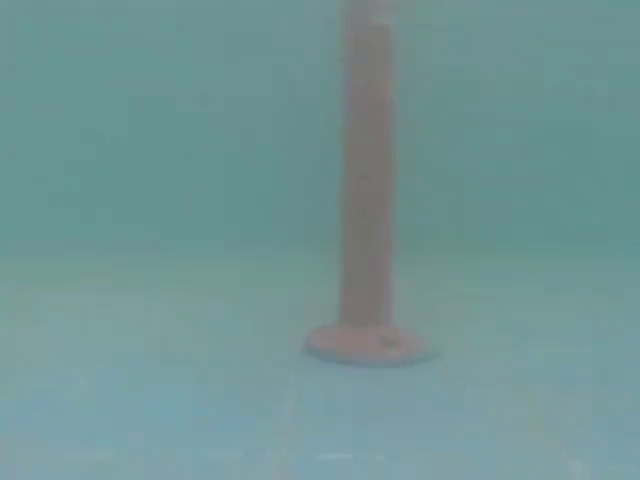flare: (292, 0, 431, 378)
